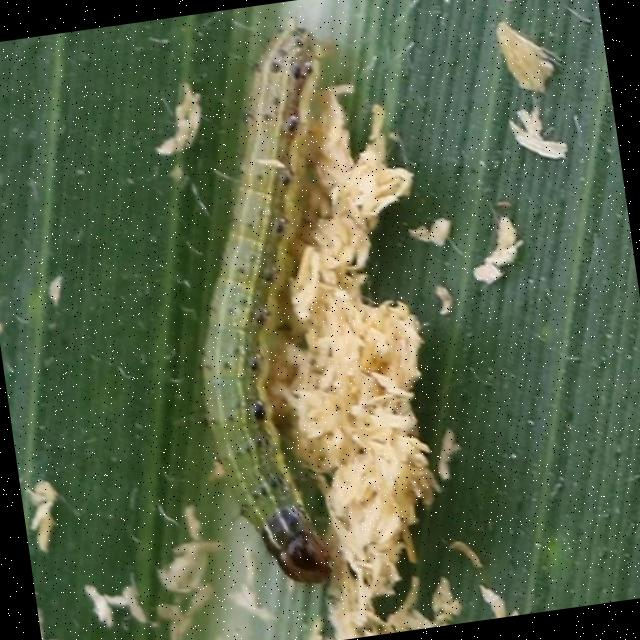worm: (151, 13, 409, 599)
